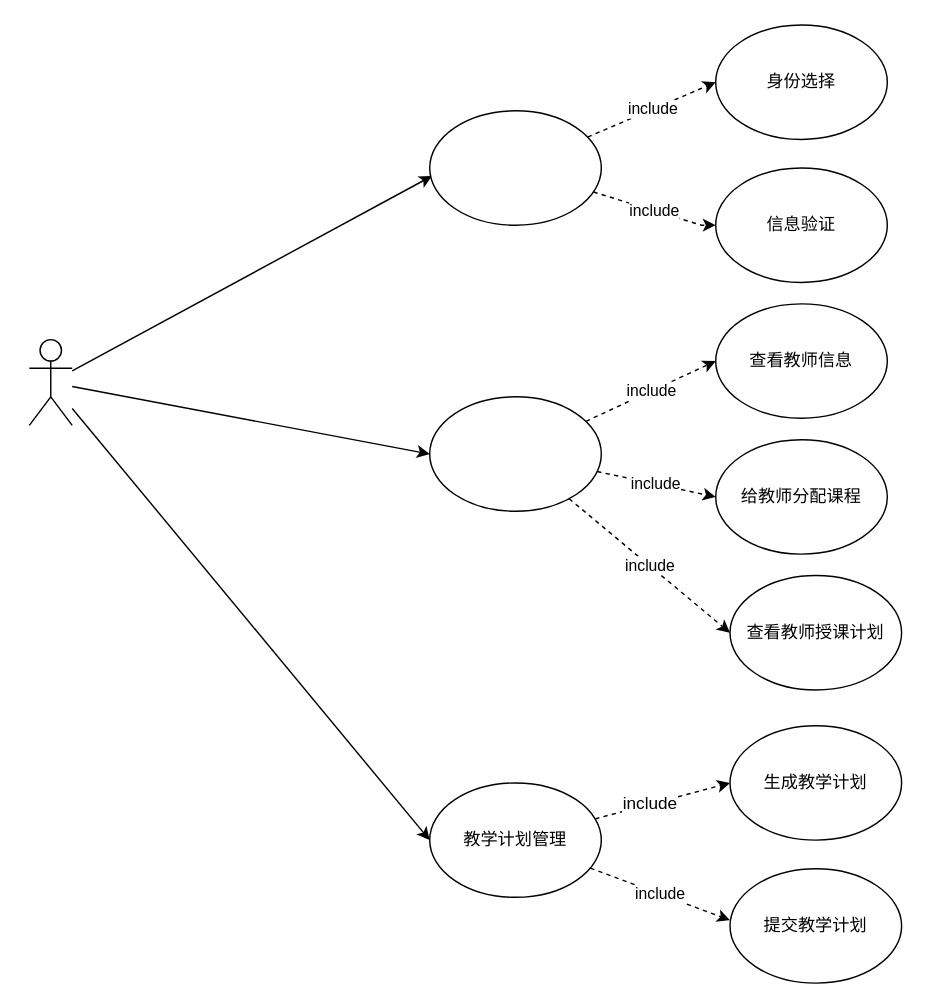
Some shapes in this 927 by 1008 pixel diagram are drawn without their labels. Here are the shapes that lost their labels. From the top down, the box of each, then its label:
(428, 109, 601, 225): 登陆系统
(28, 338, 72, 425): 教研室
(428, 395, 601, 511): 课程管理
